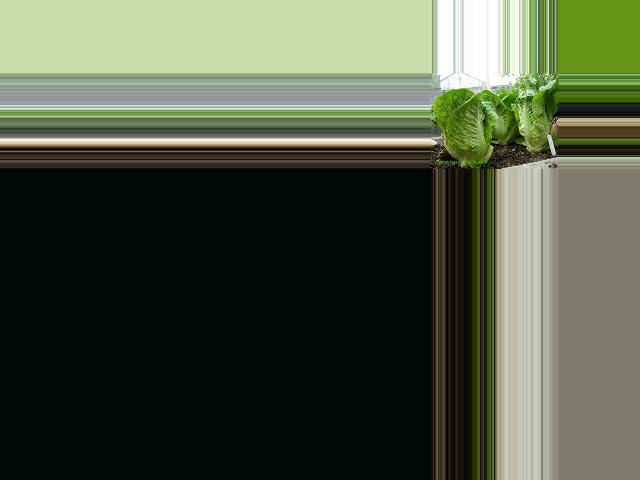lettuce: (510, 81, 553, 161)
